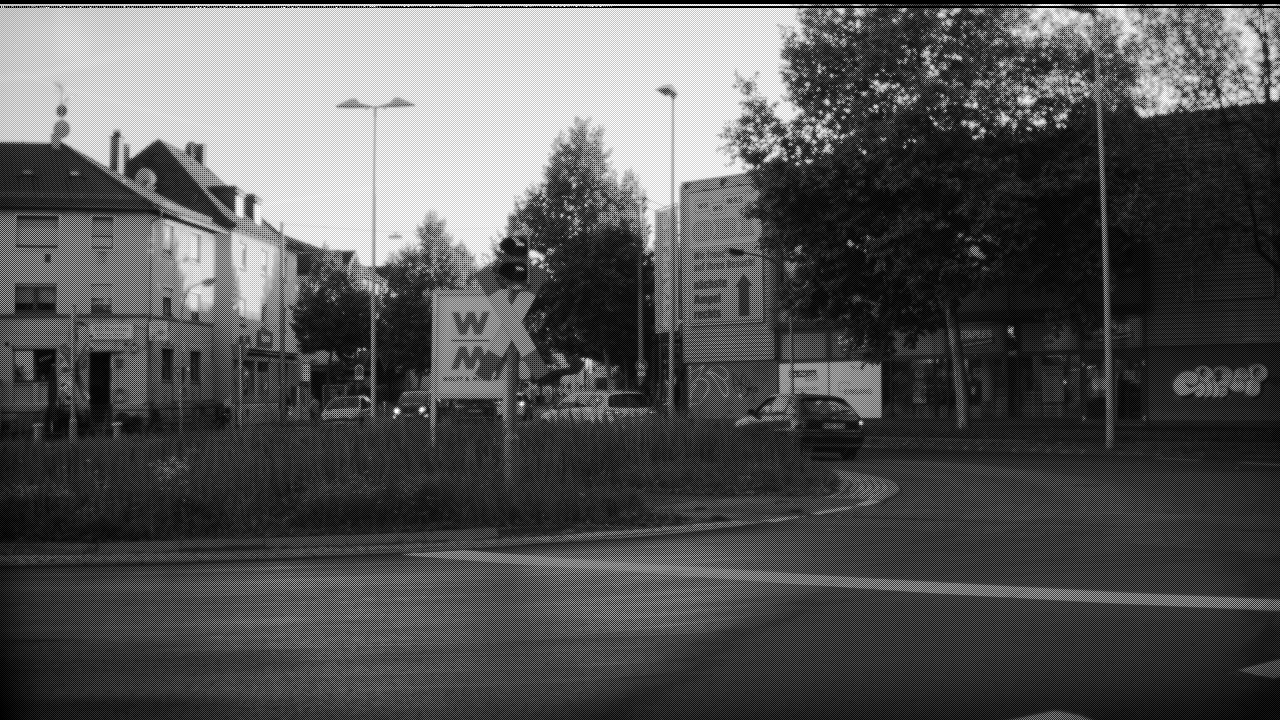pole: (1091, 1, 1116, 445), (668, 90, 676, 416), (369, 95, 376, 407), (278, 216, 287, 421)
